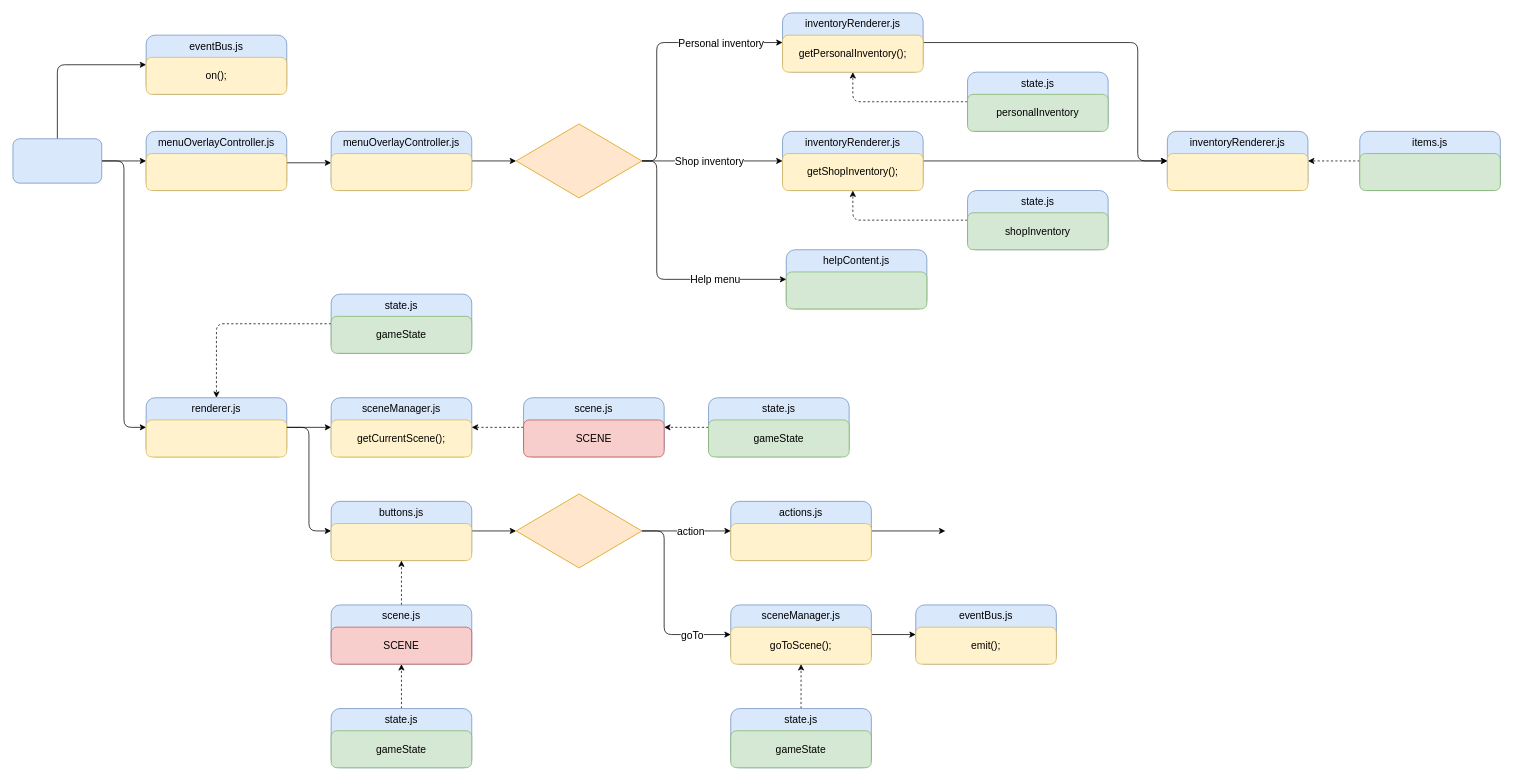
This 1513x781 diagram has some shape labels left out. Each missing label, with the centre of its shape:
[action]();: point 800,542
handleOption();: point 401,542
helpContent: point 856,290
ITEMS: point 1429,172
Main.js: point 57,160
onclick [menuButton]: point 578,160
option type?: point 578,530
render();: point 216,438
renderInventory();: point 1237,172
setupMenuButtons();: point 401,172
setupOverlay();: point 216,172
